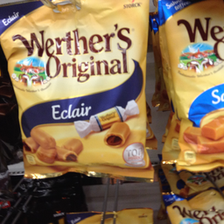candy: (2, 8, 151, 179), (160, 4, 224, 172)
